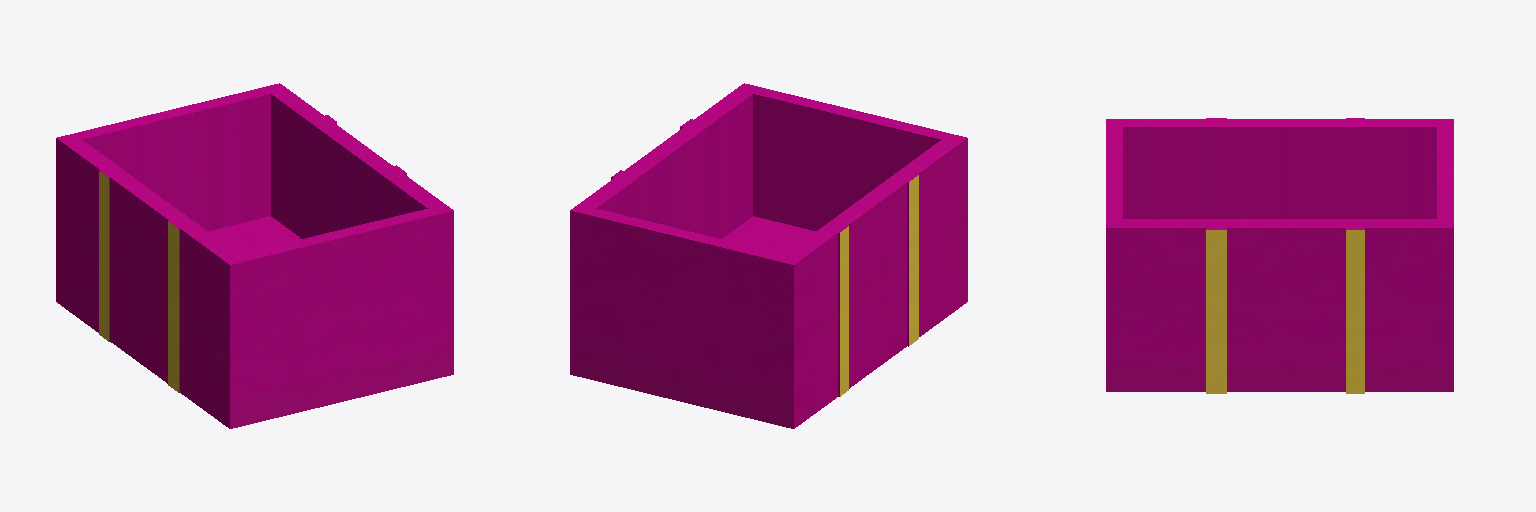
The picture shows the model from 3 angles: view 1: azimuth 30°, elevation 25°; view 2: azimuth 150°, elevation 25°; view 3: azimuth 270°, elevation 25°; orthographic projection.
Visible parts, largest first — view 1: polySurface2 pasted__pasted__pCylinder2 pasted__group4 group; view 2: polySurface2 pasted__pasted__pCylinder2 pasted__group4 group; view 3: polySurface2 pasted__pasted__pCylinder2 pasted__group4 group.
Boxes of the visible parts, x1,y1,x2,y2 form: polySurface2 pasted__pasted__pCylinder2 pasted__group4 group: [56, 83, 453, 428]; polySurface2 pasted__pasted__pCylinder2 pasted__group4 group: [570, 83, 967, 428]; polySurface2 pasted__pasted__pCylinder2 pasted__group4 group: [1106, 118, 1453, 393].
Bounding box in the file's own units: 0.2988 × 0.2052 × 0.394.
2 materials, 2 textured.